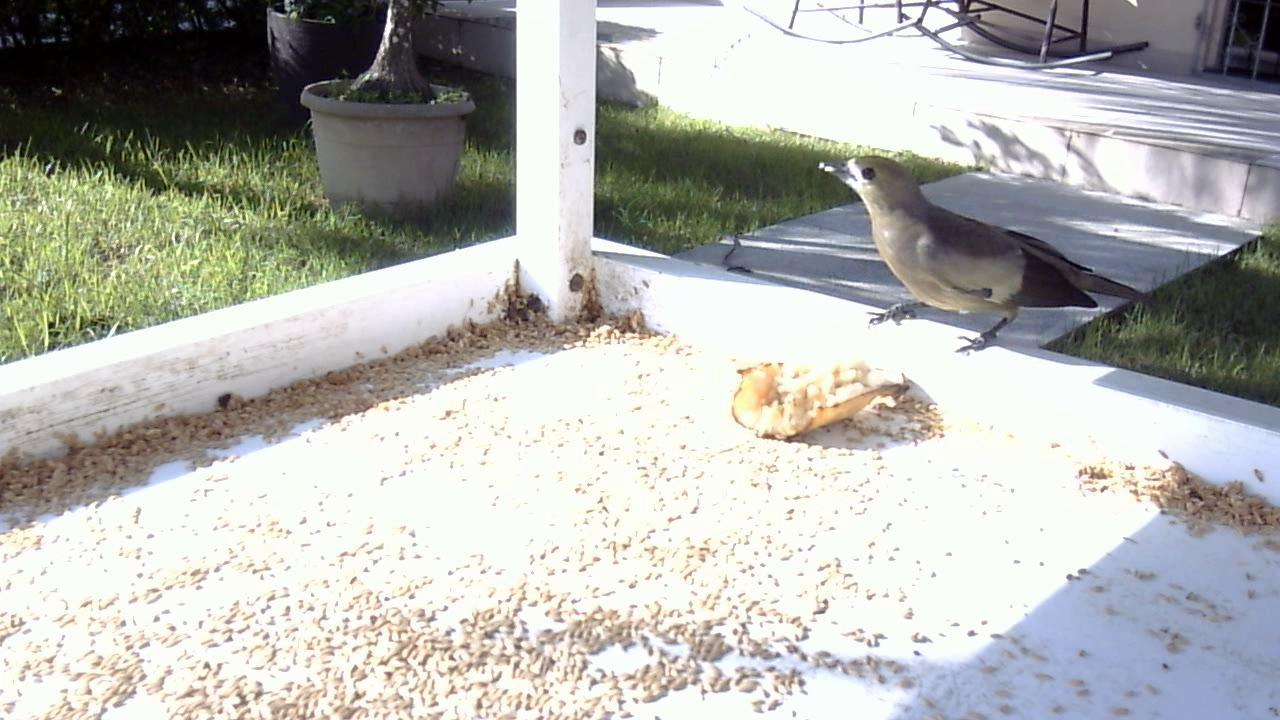sanhaco_do_coqueiro: (808, 144, 1175, 370)
